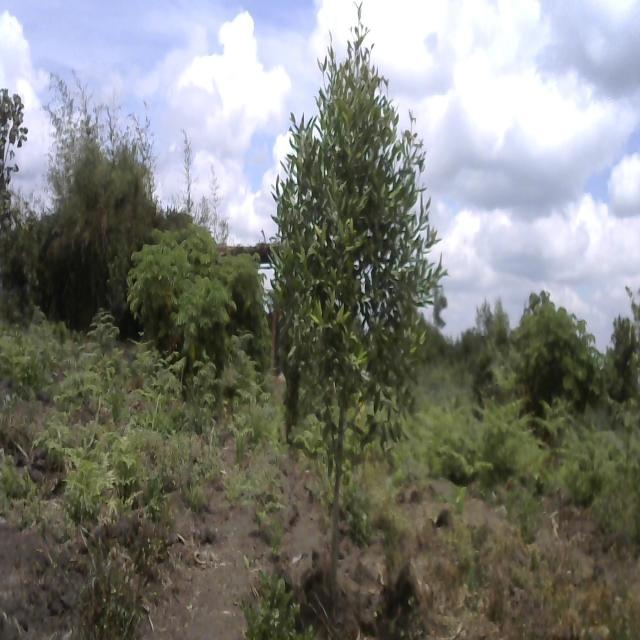Hagenia abyssinica: (128, 222, 268, 386), (514, 293, 604, 416)
Lemon Myrtle: (272, 3, 450, 594)
other: (44, 92, 158, 278), (0, 76, 23, 222)
